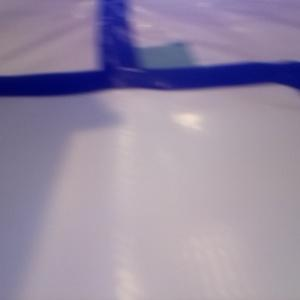top_right: (103, 42, 194, 87)
